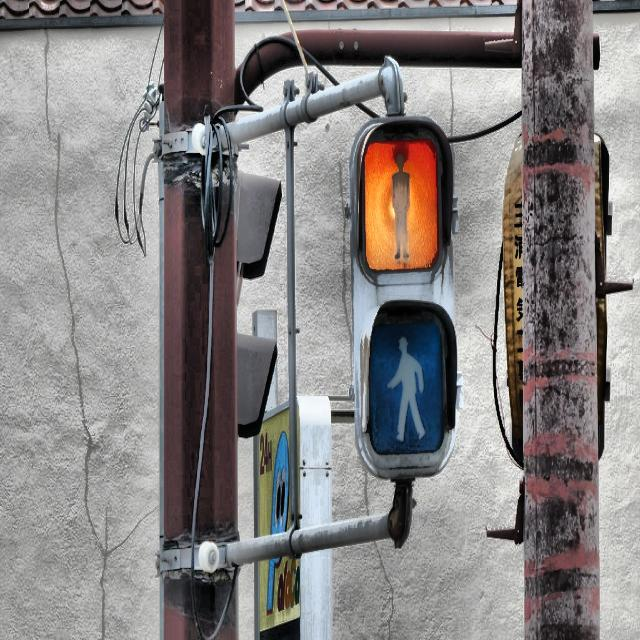red_light: (389, 146, 413, 264)
